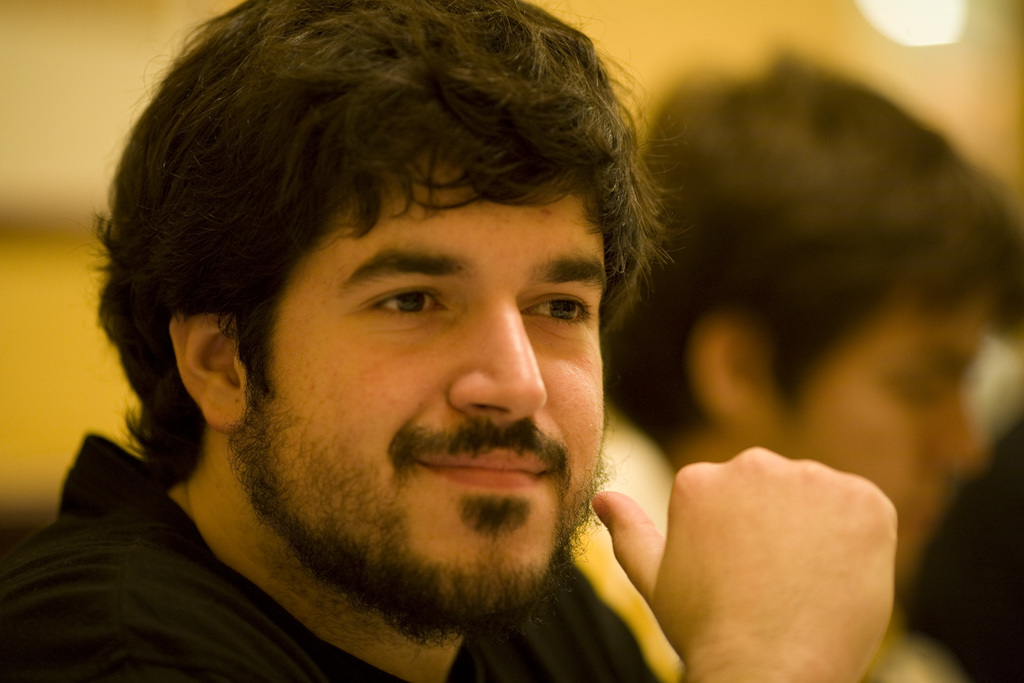Human_hand: (551, 417, 916, 683)
